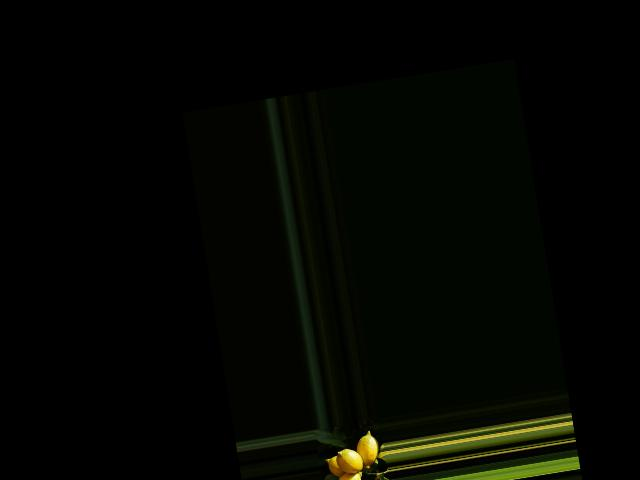lemon: (319, 448, 355, 480)
